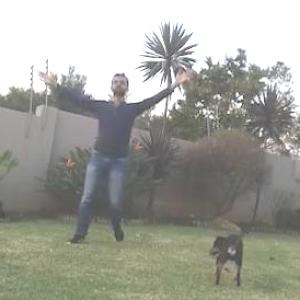takeoff: (54, 79, 180, 232)
